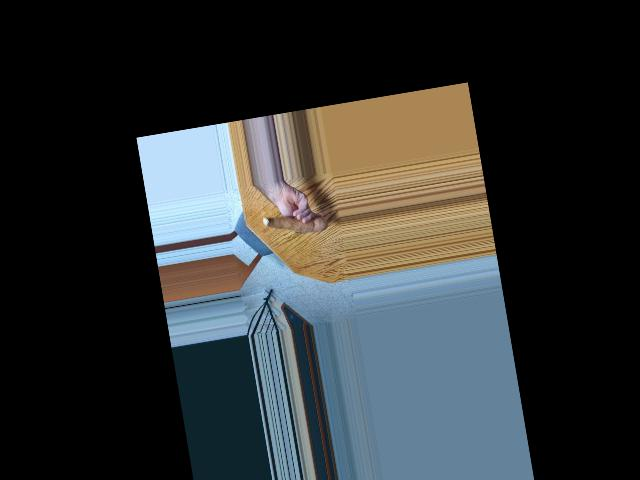sweet_potato: (264, 205, 326, 242)
